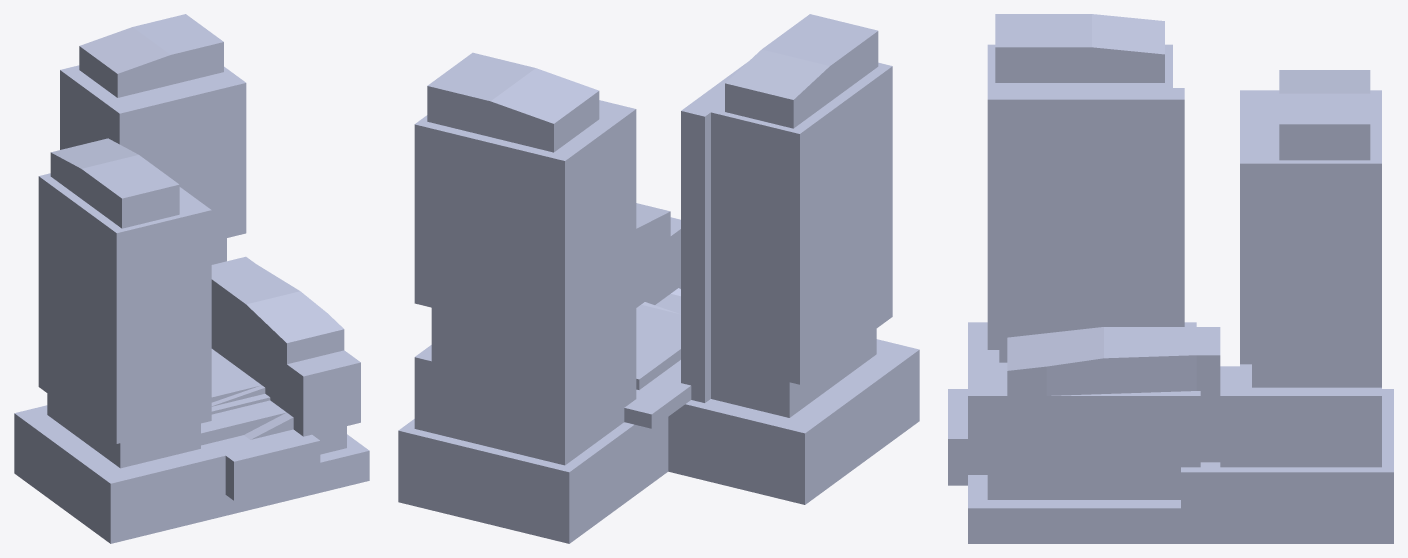
File: let_me_sleeeeeeep.gltf
The picture shows the model from 3 angles, left to right: view 1: azimuth 30°, elevation 25°; view 2: azimuth 150°, elevation 25°; view 3: azimuth 270°, elevation 25°; orthographic projection. The views are drawn at different scales.
Visible parts, largest first — view 1: let me sleeeeeeep; view 2: let me sleeeeeeep; view 3: let me sleeeeeeep.
Boxes of the visible parts, <box> form: let me sleeeeeeep: <box>14,14,369,543</box>; let me sleeeeeeep: <box>398,14,919,543</box>; let me sleeeeeeep: <box>948,14,1393,543</box>.
Size of the model in its own units: 90 by 115 by 113.
